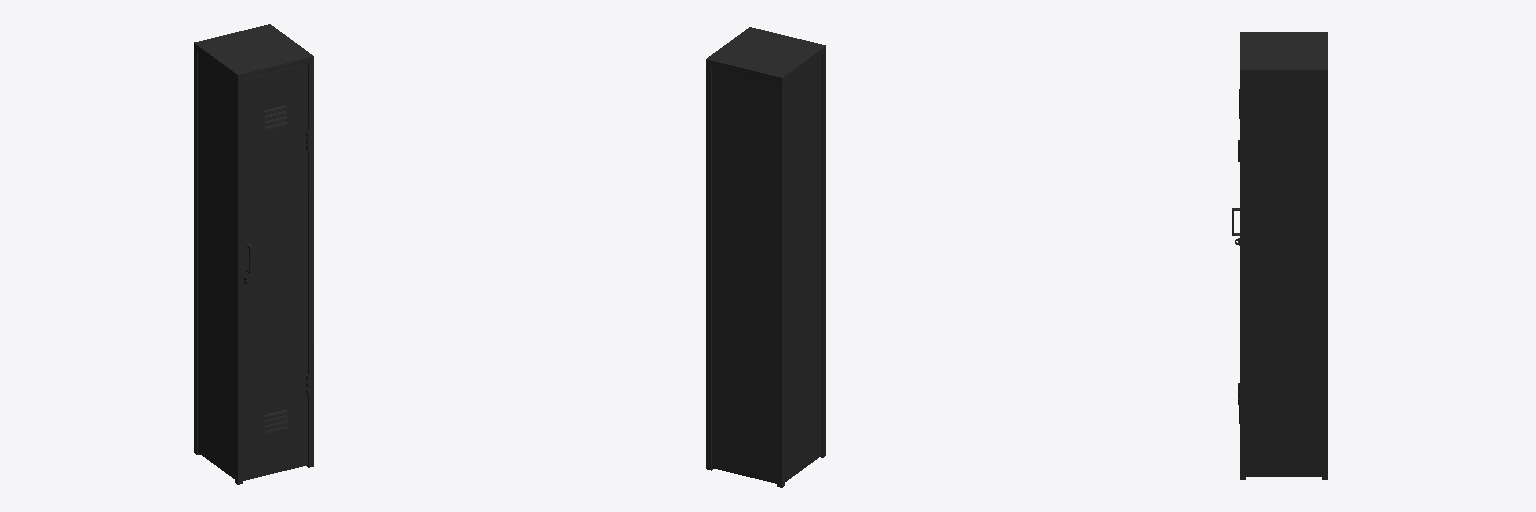
The model's file is locker_LoD_4.obj.
3 renders of one model, left to right at view 1: azimuth 30°, elevation 25°; view 2: azimuth 150°, elevation 25°; view 3: azimuth 270°, elevation 25°, orthographic.
Parts seen in each view (by area): view 1: SM_LockerClosed_Mesh.005; view 2: SM_LockerClosed_Mesh.005; view 3: SM_LockerClosed_Mesh.005.
Part boxes in pixels (x1,y1,x2,y2): SM_LockerClosed_Mesh.005: (194,24,313,484); SM_LockerClosed_Mesh.005: (706,27,825,487); SM_LockerClosed_Mesh.005: (1232,32,1327,479).
Size of the model in its own units: 0.3513 by 1.8 by 0.3828.